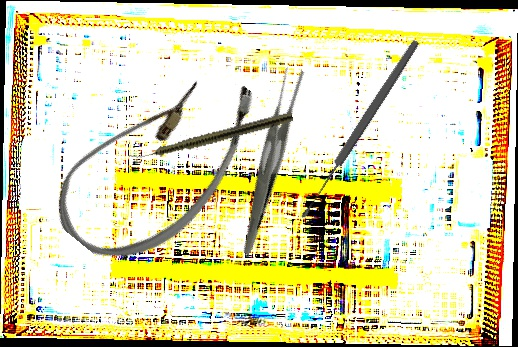Cannula: (38, 34, 279, 289)
Dressing Forceps: (189, 62, 349, 256)
Handpiece: (127, 109, 294, 166)
Surgical Spoon: (297, 37, 422, 221)
